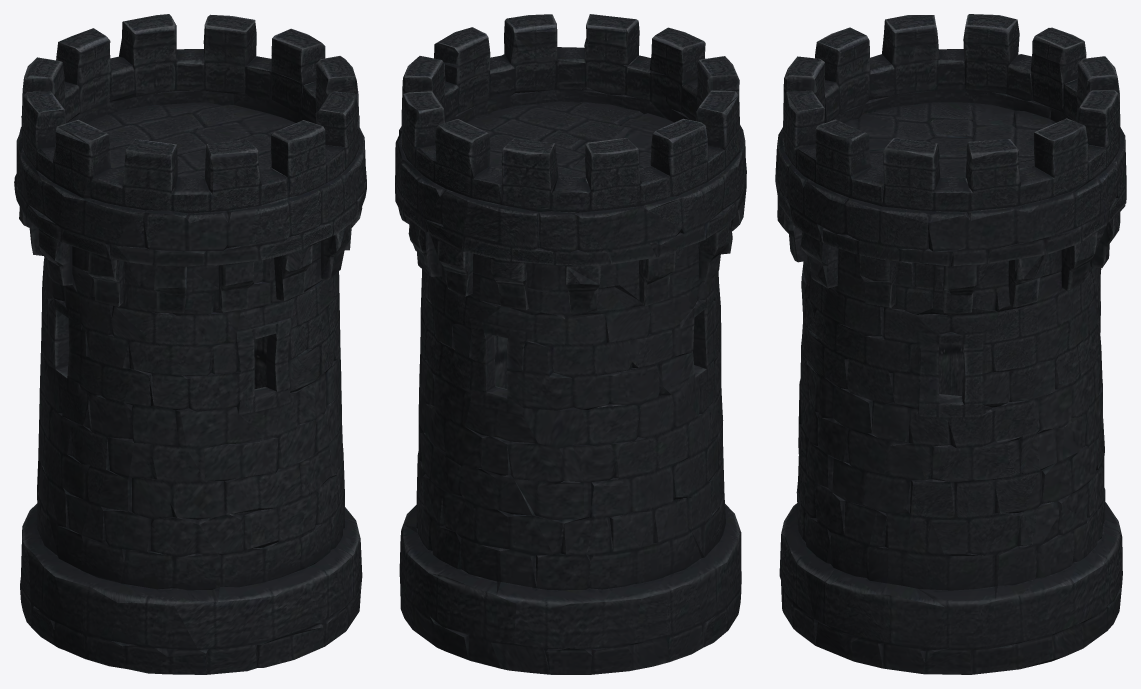
File: inner_wall_tower.glb
The picture shows the model from 3 angles, left to right: view 1: azimuth 30°, elevation 25°; view 2: azimuth 150°, elevation 25°; view 3: azimuth 270°, elevation 25°; orthographic projection.
Parts seen in each view (by area): view 1: output_unwrapped; view 2: output_unwrapped; view 3: output_unwrapped.
Part boxes in pixels (left/top/right/bottom): output_unwrapped: left=14, top=14, right=366, bottom=674; output_unwrapped: left=395, top=14, right=746, bottom=674; output_unwrapped: left=775, top=14, right=1126, bottom=674.
Size of the model in its own units: 1.16 by 1.9 by 1.16.
1 material, 1 textured.
